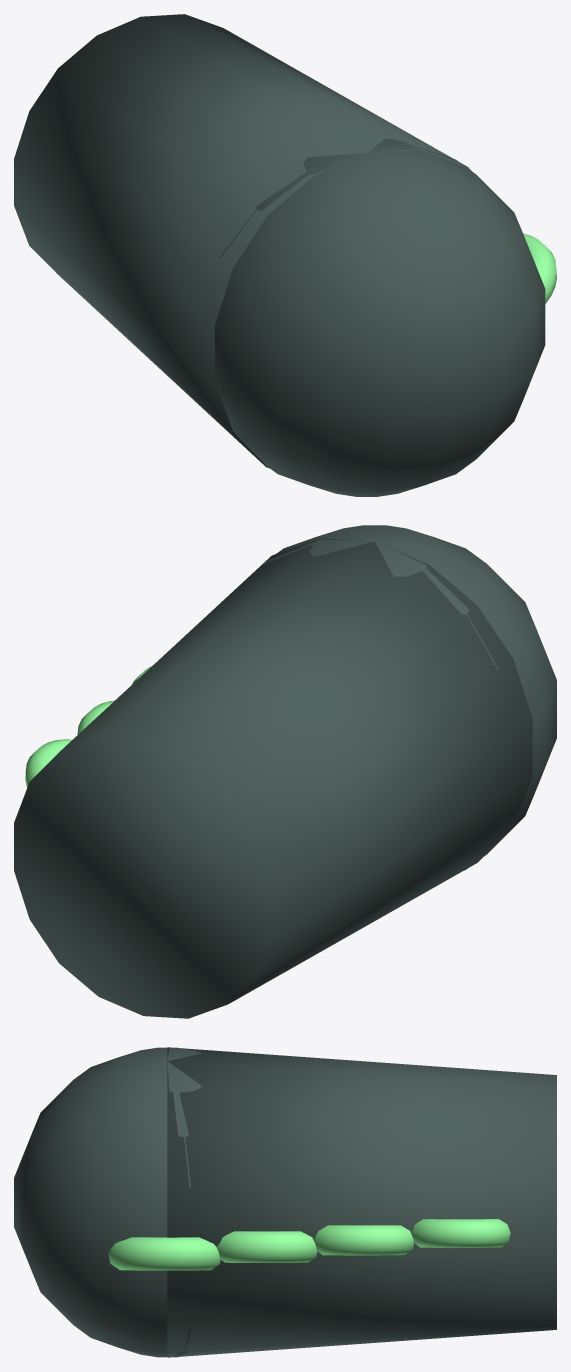
File: seg0.glb
3 views of the same model, one above another, from view 1: azimuth 30°, elevation 25°; view 2: azimuth 150°, elevation 25°; view 3: azimuth 270°, elevation 25° (orthographic). The views are drawn at different scales.
Visible parts, largest first — view 1: tentacle, sucker; view 2: tentacle, sucker; view 3: tentacle, sucker.
Boxes of the visible parts, left/top/right/bottom form: tentacle: left=14, top=14, right=545, bottom=496; sucker: left=523, top=233, right=556, bottom=303; tentacle: left=14, top=525, right=556, bottom=1018; sucker: left=25, top=665, right=152, bottom=787; tentacle: left=14, top=1047, right=556, bottom=1357; sucker: left=108, top=1219, right=510, bottom=1270.
Size of the model in its own units: 0.7253 by 0.68 by 1.18.
